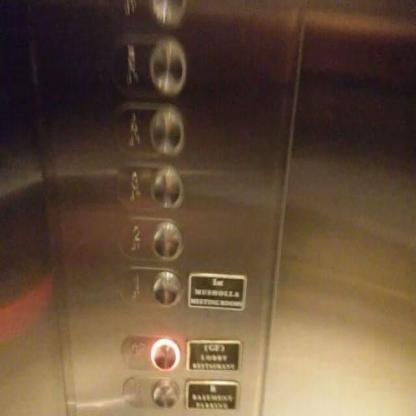1: (119, 264, 183, 310)
2: (118, 213, 184, 261)
3: (114, 164, 186, 215)
4: (113, 102, 185, 162)
blur: (111, 32, 189, 96), (119, 375, 182, 412)
open: (120, 334, 183, 372)
